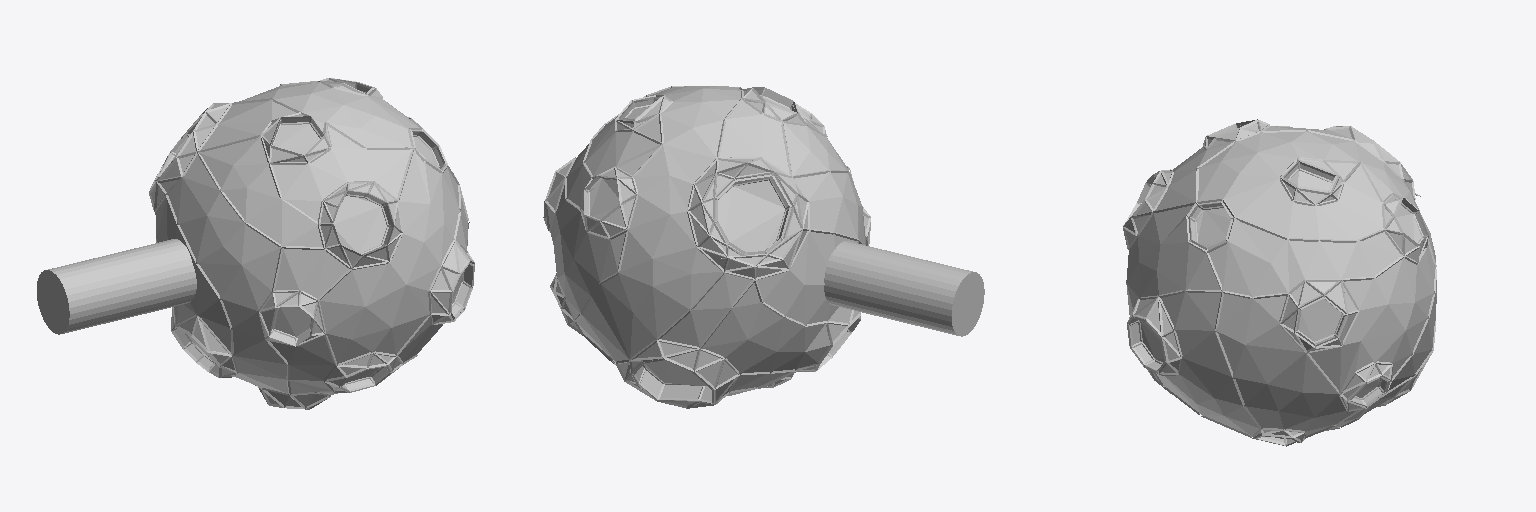
The model's file is moon.obj.
The picture shows the model from 3 angles: view 1: azimuth 30°, elevation 25°; view 2: azimuth 150°, elevation 25°; view 3: azimuth 270°, elevation 25°; orthographic projection.
Parts seen in each view (by area): view 1: Moon_02:polySurface1; view 2: Moon_02:polySurface1; view 3: Moon_02:polySurface1.
Part boxes in pixels (x1,y1,x2,y2): Moon_02:polySurface1: (37, 78, 474, 409); Moon_02:polySurface1: (543, 86, 984, 408); Moon_02:polySurface1: (1123, 119, 1436, 446).
Size of the model in its own units: 1.43 by 0.9878 by 0.9664.